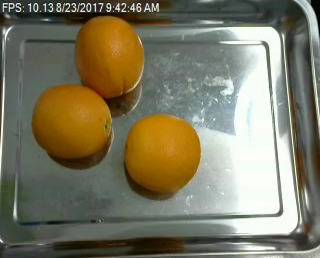Orange: (125, 113, 201, 191), (32, 84, 112, 157), (75, 14, 145, 94)
